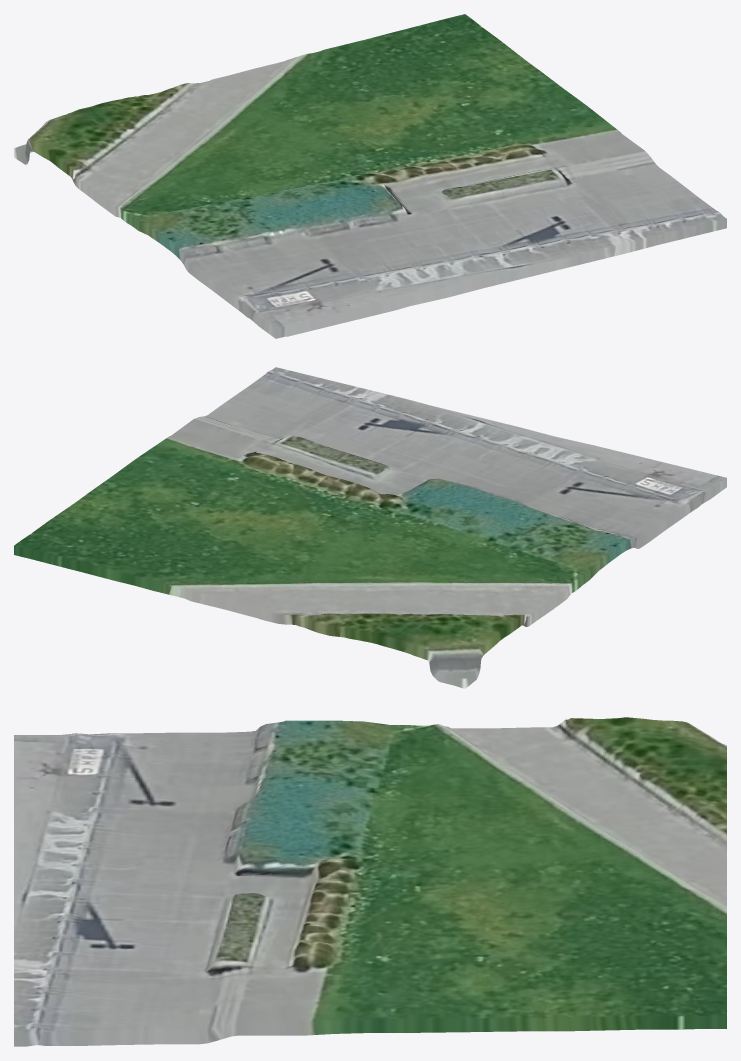
File: z20-167768-405189-h0-yup-uvflip-v3-world.glb
The picture shows the model from 3 angles, top to bottom: view 1: azimuth 30°, elevation 25°; view 2: azimuth 150°, elevation 25°; view 3: azimuth 270°, elevation 25°; orthographic projection. The views are drawn at different scales.
Bounding box in the file's own units: 30.16 × 2.16 × 30.32.
Materials: 1 (1 with a texture image).
